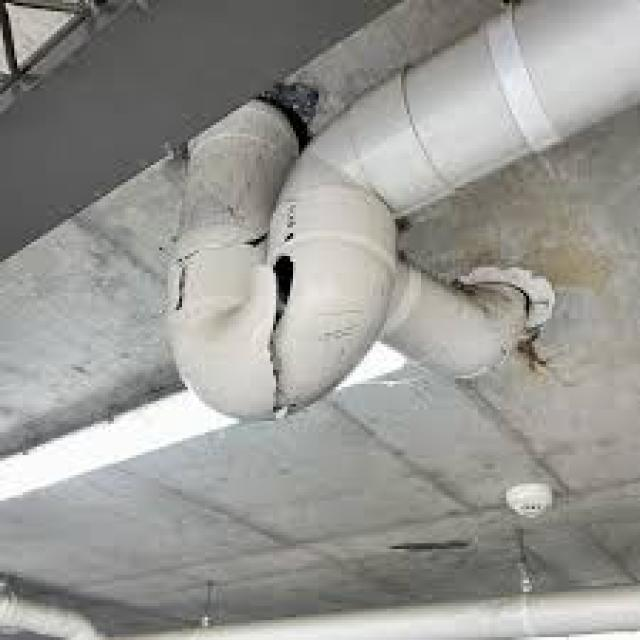crack: (264, 245, 302, 423)
